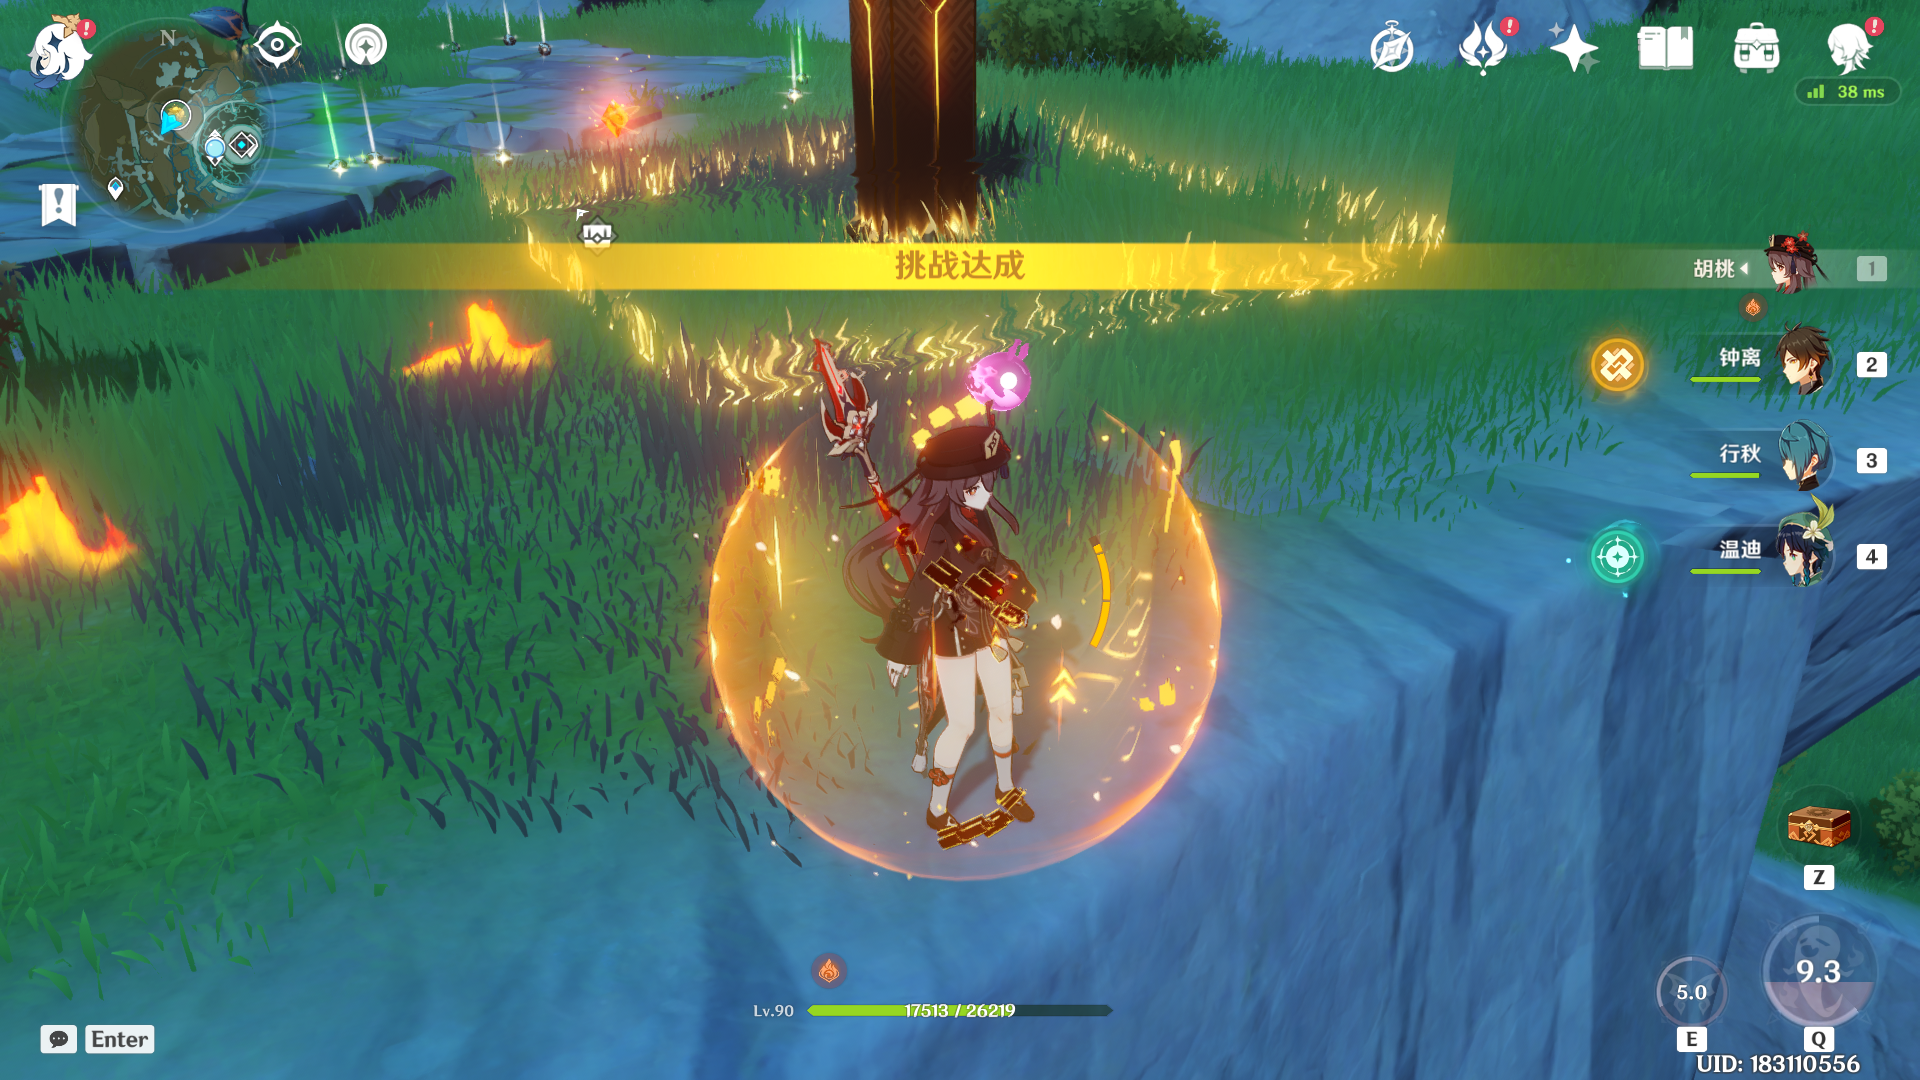character: (789, 371, 1164, 878)
